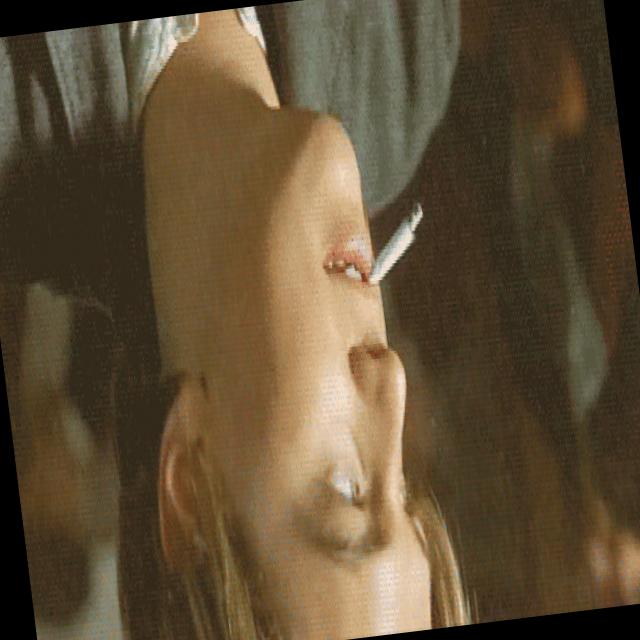cigarette: (360, 198, 439, 290)
